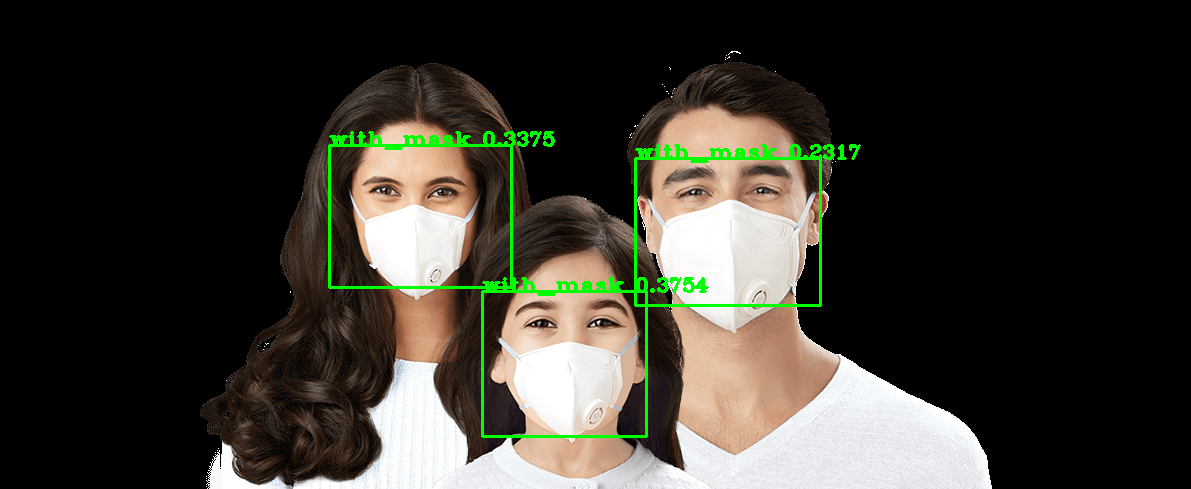with_mask: (641, 110, 827, 329), (485, 253, 662, 464), (335, 116, 493, 297)
